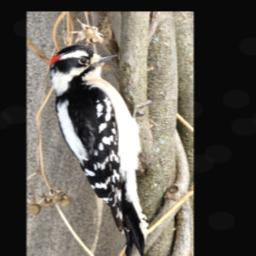Woodpecker: (49, 44, 151, 256)
